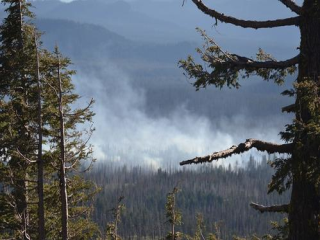smoke: (57, 76, 281, 175)
